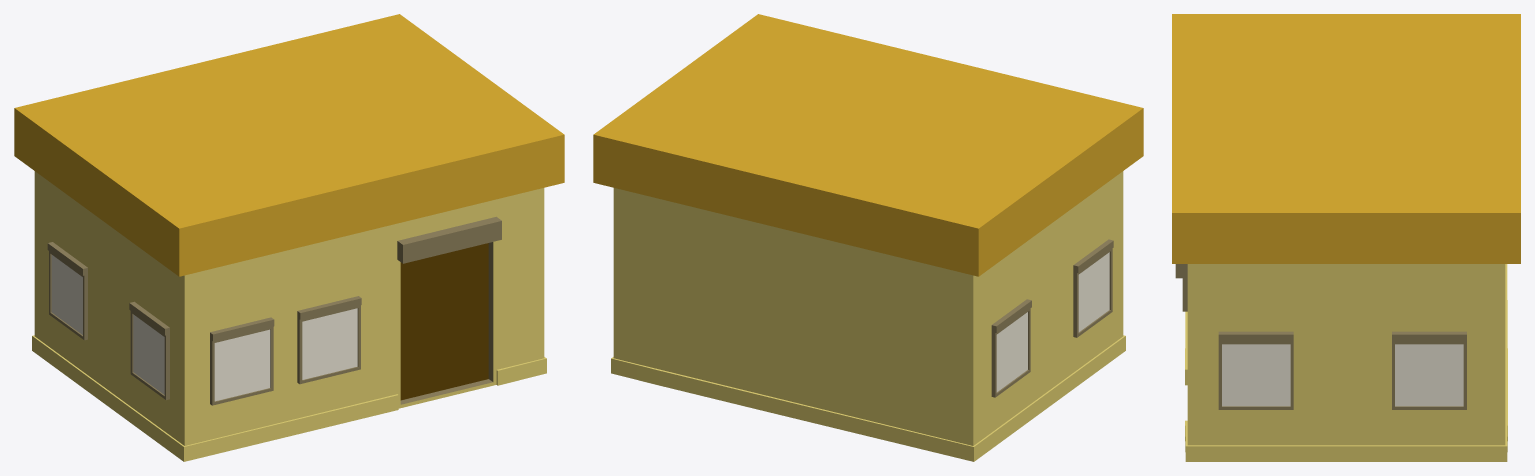
File: casa_cidade03.FBX
3 views of the same model, side by side, from view 1: azimuth 30°, elevation 25°; view 2: azimuth 150°, elevation 25°; view 3: azimuth 270°, elevation 25° (orthographic). The views are drawn at different scales.
Parts seen in each view (by area): view 1: Cidade_Casa_03; view 2: Cidade_Casa_03; view 3: Cidade_Casa_03.
Boxes of the visible parts, x1,y1,x2,y2 form: Cidade_Casa_03: [14, 14, 564, 461]; Cidade_Casa_03: [593, 14, 1143, 461]; Cidade_Casa_03: [1172, 14, 1520, 461].
Bounding box in the file's own units: 7 × 5.18 × 4.18.
